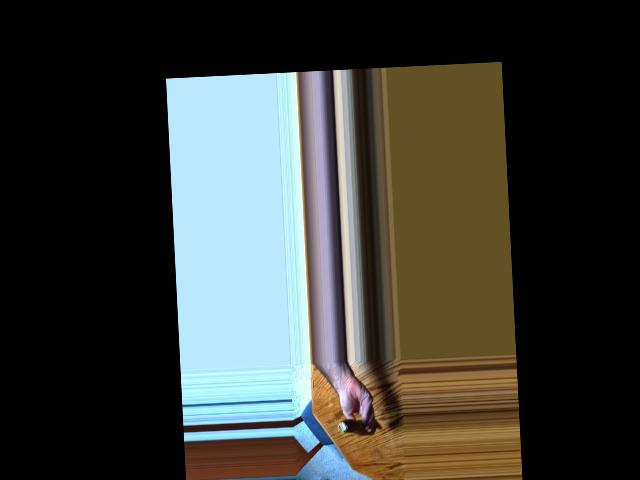sweet_potato: (342, 423, 376, 437)
